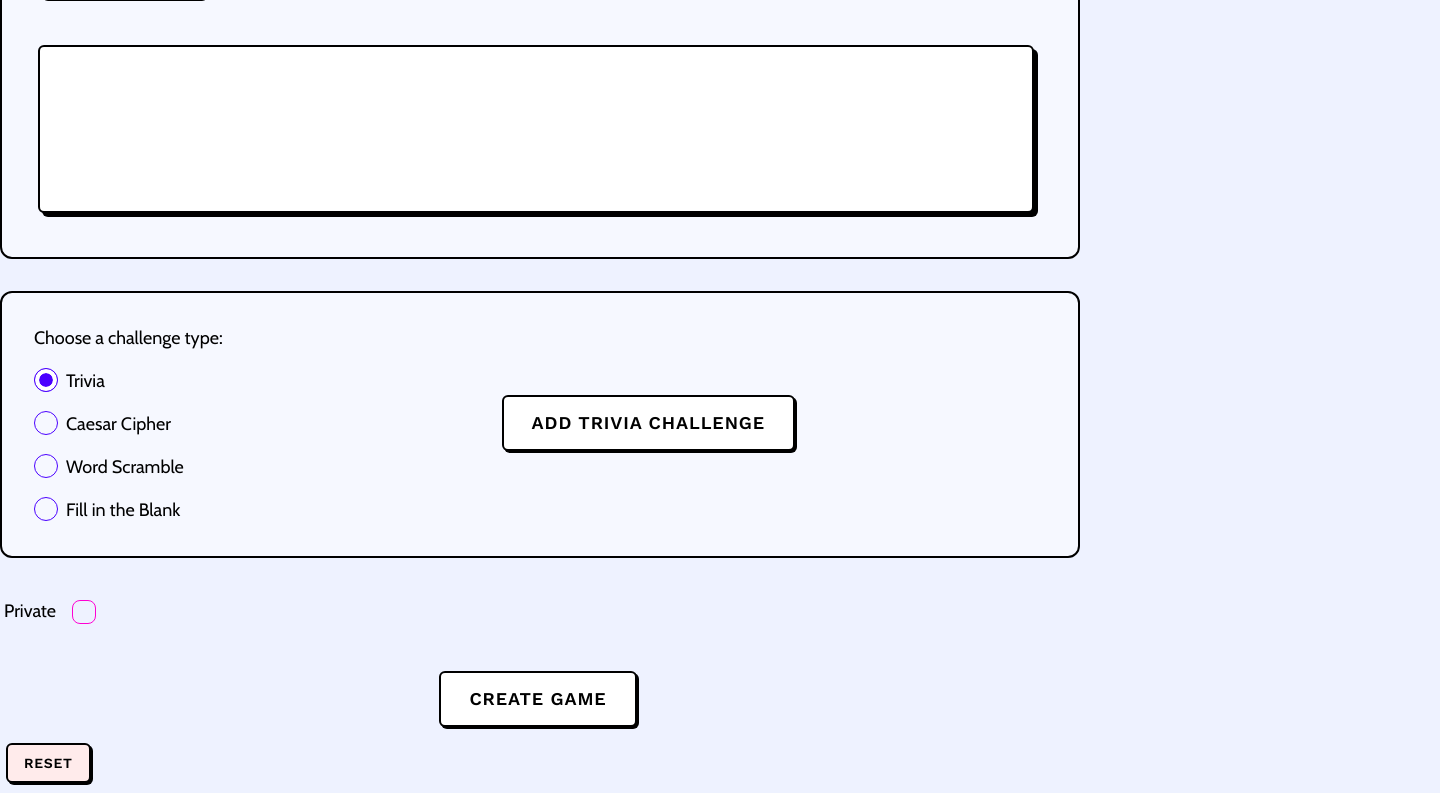
Test case: Handle form inputs and submission › selects a challenge type and adds a new challenge to the form
(page scrolled)
Add a new challenge
Click the radio button labelled "Caesar Cipher": (46, 423) top-left (34, 411), bottom-right (58, 435)
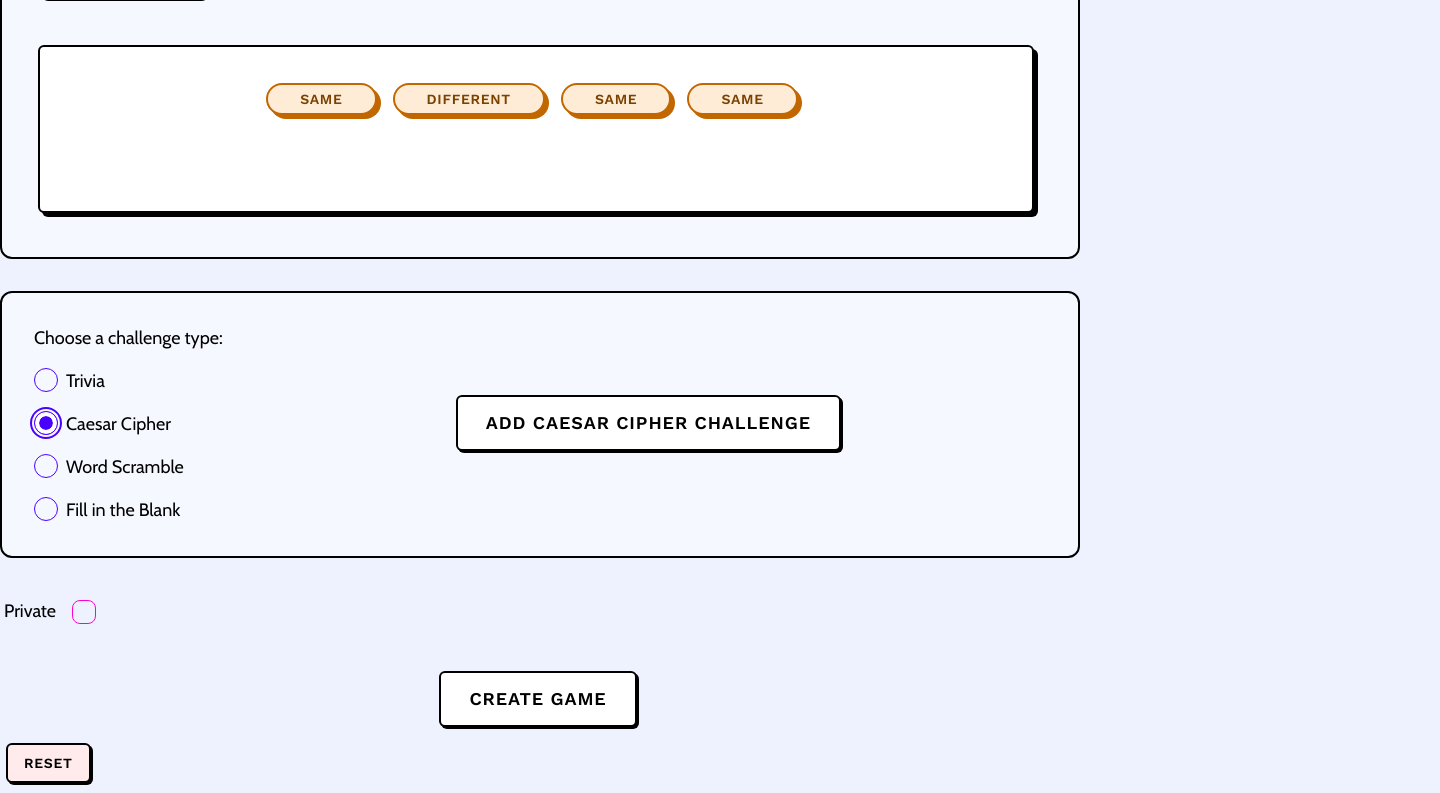
Click the button with test id "add-caesar-cipher-challenge": (650, 424) top-left (458, 396), bottom-right (843, 452)
(page scrolled)
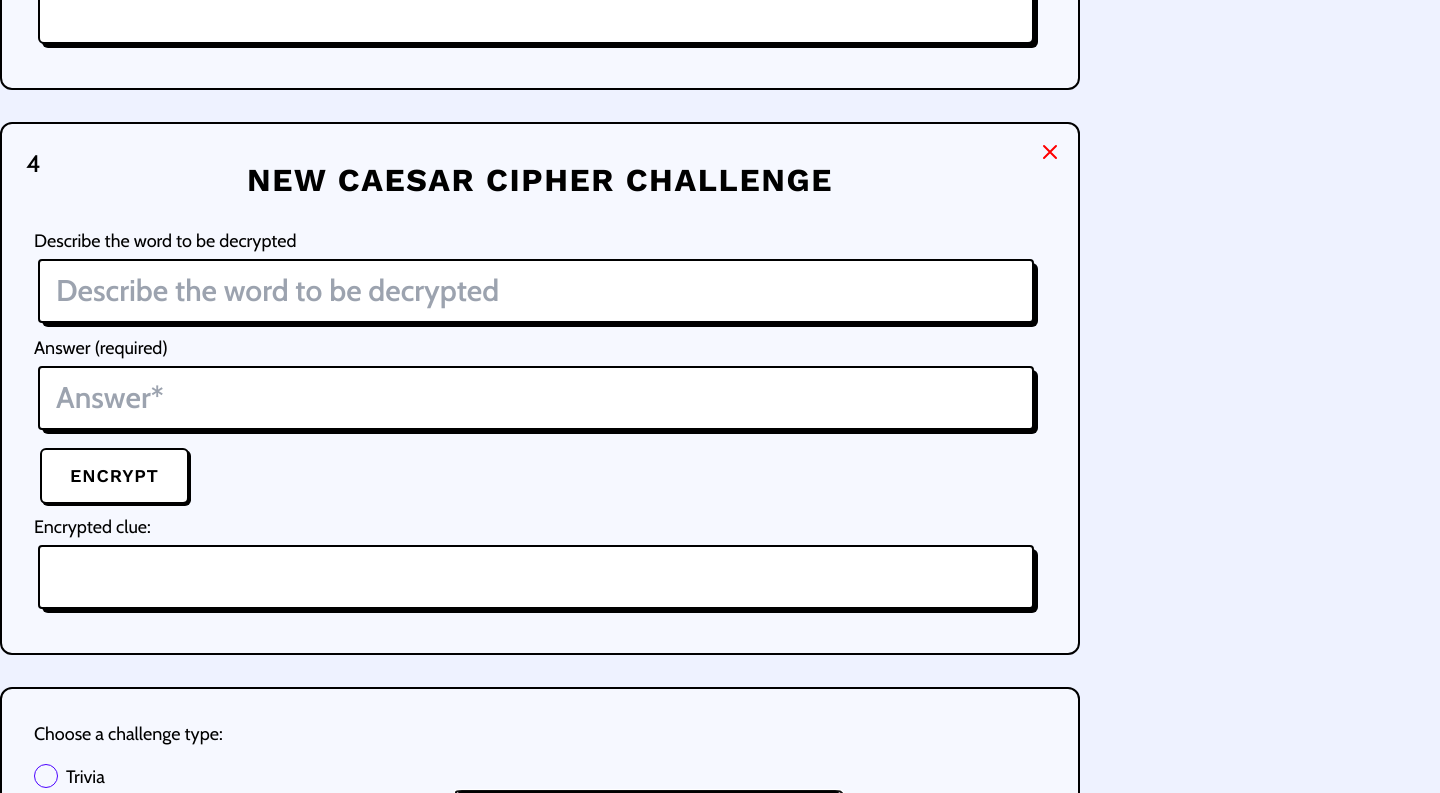
Expected: the element with test id "caesar-cipher-3" is shown, top-left (0, 122), bottom-right (1080, 655)
